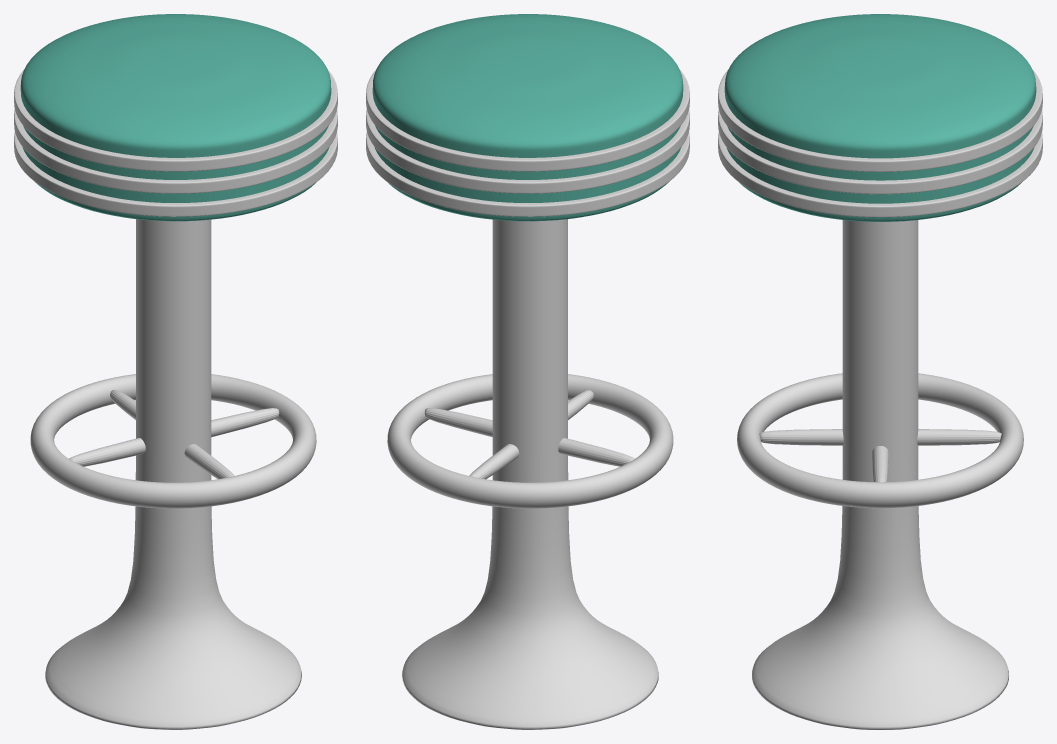
Rendered from circle_chair_long.fbx.
The picture shows the model from 3 angles, left to right: view 1: azimuth 30°, elevation 25°; view 2: azimuth 150°, elevation 25°; view 3: azimuth 270°, elevation 25°; orthographic projection.
Visible parts, largest first — view 1: circle_chair_longpasted__pasted__circle_chair_longpasted__CC (×4), pasted__circle_chair_linepasted__circle_chair1pasted__circle (×2), pasted__pCylinder13pasted__circle_chair_linepasted__circle_c, circle_chair_longpasted__pasted__pCylinder2pasted__pasted__c; view 2: circle_chair_longpasted__pasted__circle_chair_longpasted__CC (×4), pasted__circle_chair_linepasted__circle_chair1pasted__circle (×2), pasted__pCylinder13pasted__circle_chair_linepasted__circle_c, circle_chair_longpasted__pasted__pCylinder2pasted__pasted__c; view 3: circle_chair_longpasted__pasted__circle_chair_longpasted__CC (×4), pasted__circle_chair_linepasted__circle_chair1pasted__circle (×2), pasted__pCylinder13pasted__circle_chair_linepasted__circle_c, circle_chair_longpasted__pasted__pCylinder2pasted__pasted__c.
Boxes of the visible parts, x1,y1,x2,y2 form: circle_chair_longpasted__pasted__circle_chair_longpasted__CC (×4): [20, 14, 331, 729]; pasted__circle_chair_linepasted__circle_chair1pasted__circle (×2): [14, 69, 337, 216]; pasted__pCylinder13pasted__circle_chair_linepasted__circle_c: [14, 109, 337, 193]; circle_chair_longpasted__pasted__pCylinder2pasted__pasted__c: [110, 390, 234, 479]; circle_chair_longpasted__pasted__circle_chair_longpasted__CC (×4): [372, 14, 683, 729]; pasted__circle_chair_linepasted__circle_chair1pasted__circle (×2): [366, 69, 689, 216]; pasted__pCylinder13pasted__circle_chair_linepasted__circle_c: [366, 109, 689, 193]; circle_chair_longpasted__pasted__pCylinder2pasted__pasted__c: [469, 390, 593, 479]; circle_chair_longpasted__pasted__circle_chair_longpasted__CC (×4): [724, 14, 1036, 729]; pasted__circle_chair_linepasted__circle_chair1pasted__circle (×2): [718, 69, 1042, 217]; pasted__pCylinder13pasted__circle_chair_linepasted__circle_c: [718, 110, 1042, 194]; circle_chair_longpasted__pasted__pCylinder2pasted__pasted__c: [759, 429, 1001, 445].
Size of the model in its own units: 0.4725 by 0.9977 by 0.4725.
